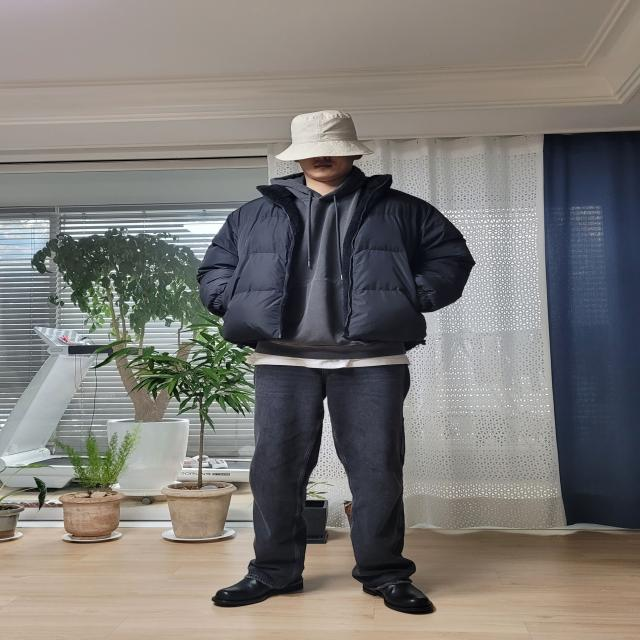denimpants: (245, 353, 410, 592)
hoodies: (266, 170, 409, 360)
padding: (199, 175, 476, 350)
